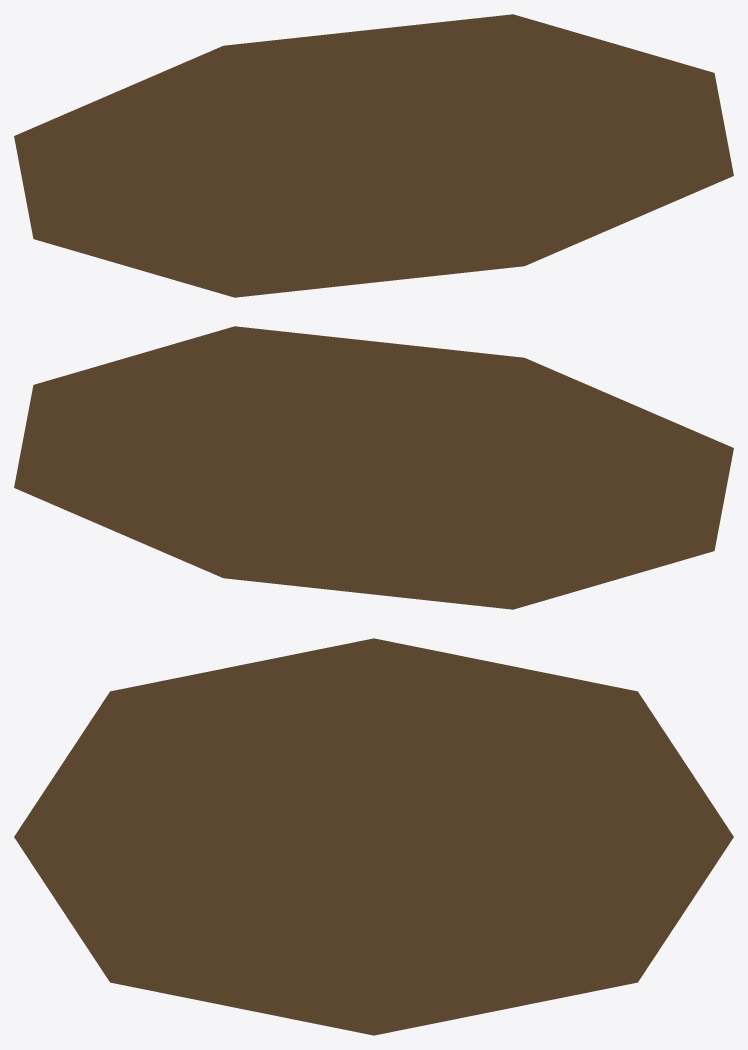
The model's file is mud.fbx.
The picture shows the model from 3 angles, top to bottom: view 1: azimuth 30°, elevation 25°; view 2: azimuth 150°, elevation 25°; view 3: azimuth 270°, elevation 25°; orthographic projection. The views are drawn at different scales.
Parts seen in each view (by area): view 1: Plane; view 2: Plane; view 3: Plane.
Boxes of the visible parts, x1,y1,x2,y2 form: Plane: [14, 14, 733, 297]; Plane: [14, 326, 733, 609]; Plane: [14, 638, 733, 1035].
Size of the model in its own units: 987 by 0.000123 by 756.
